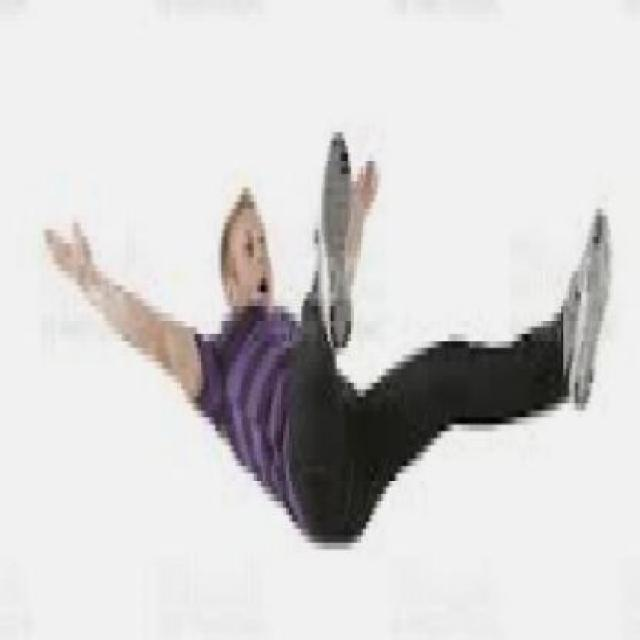fall: (41, 118, 614, 545)
